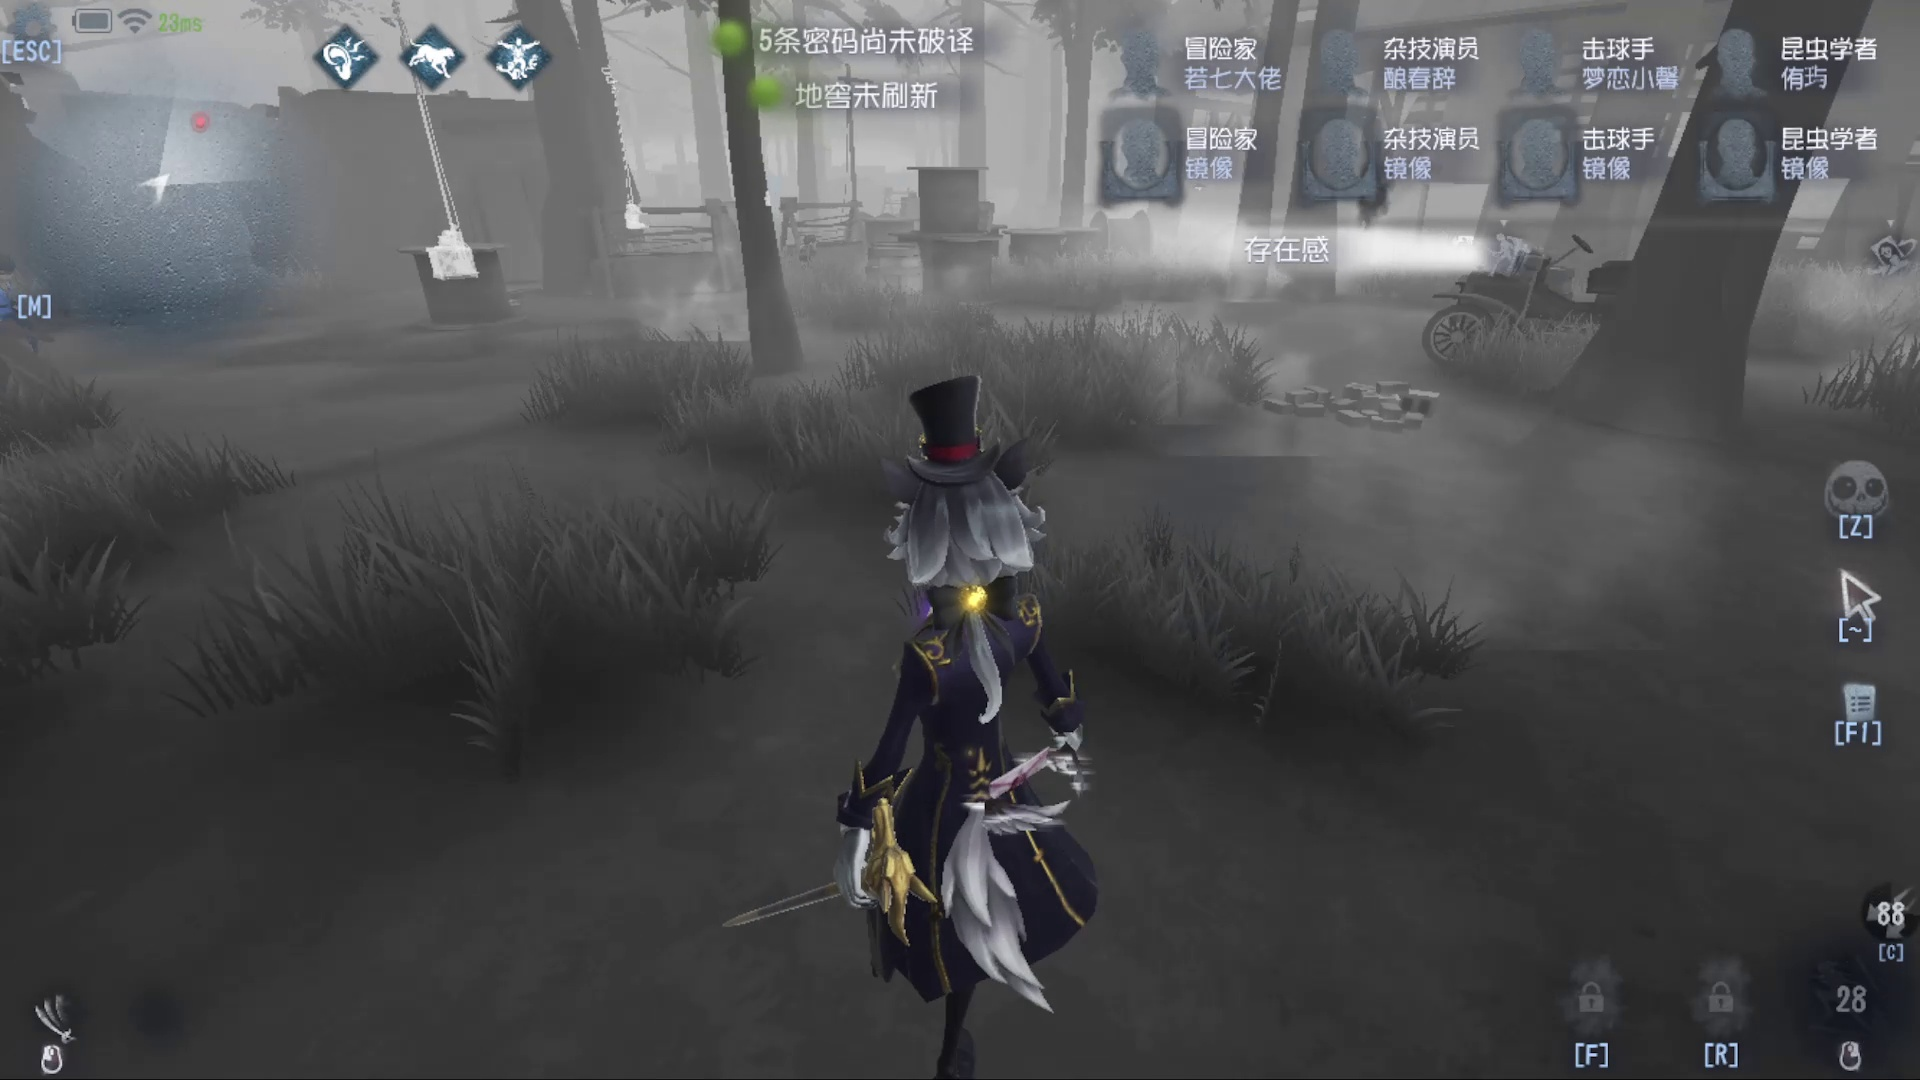密码机: (357, 9, 520, 289)
求生者: (779, 232, 843, 301)
